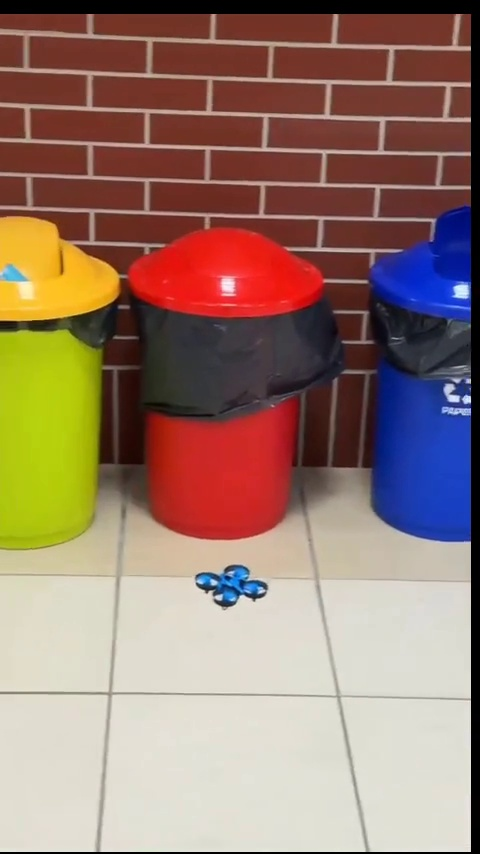drone: (198, 564, 269, 609)
